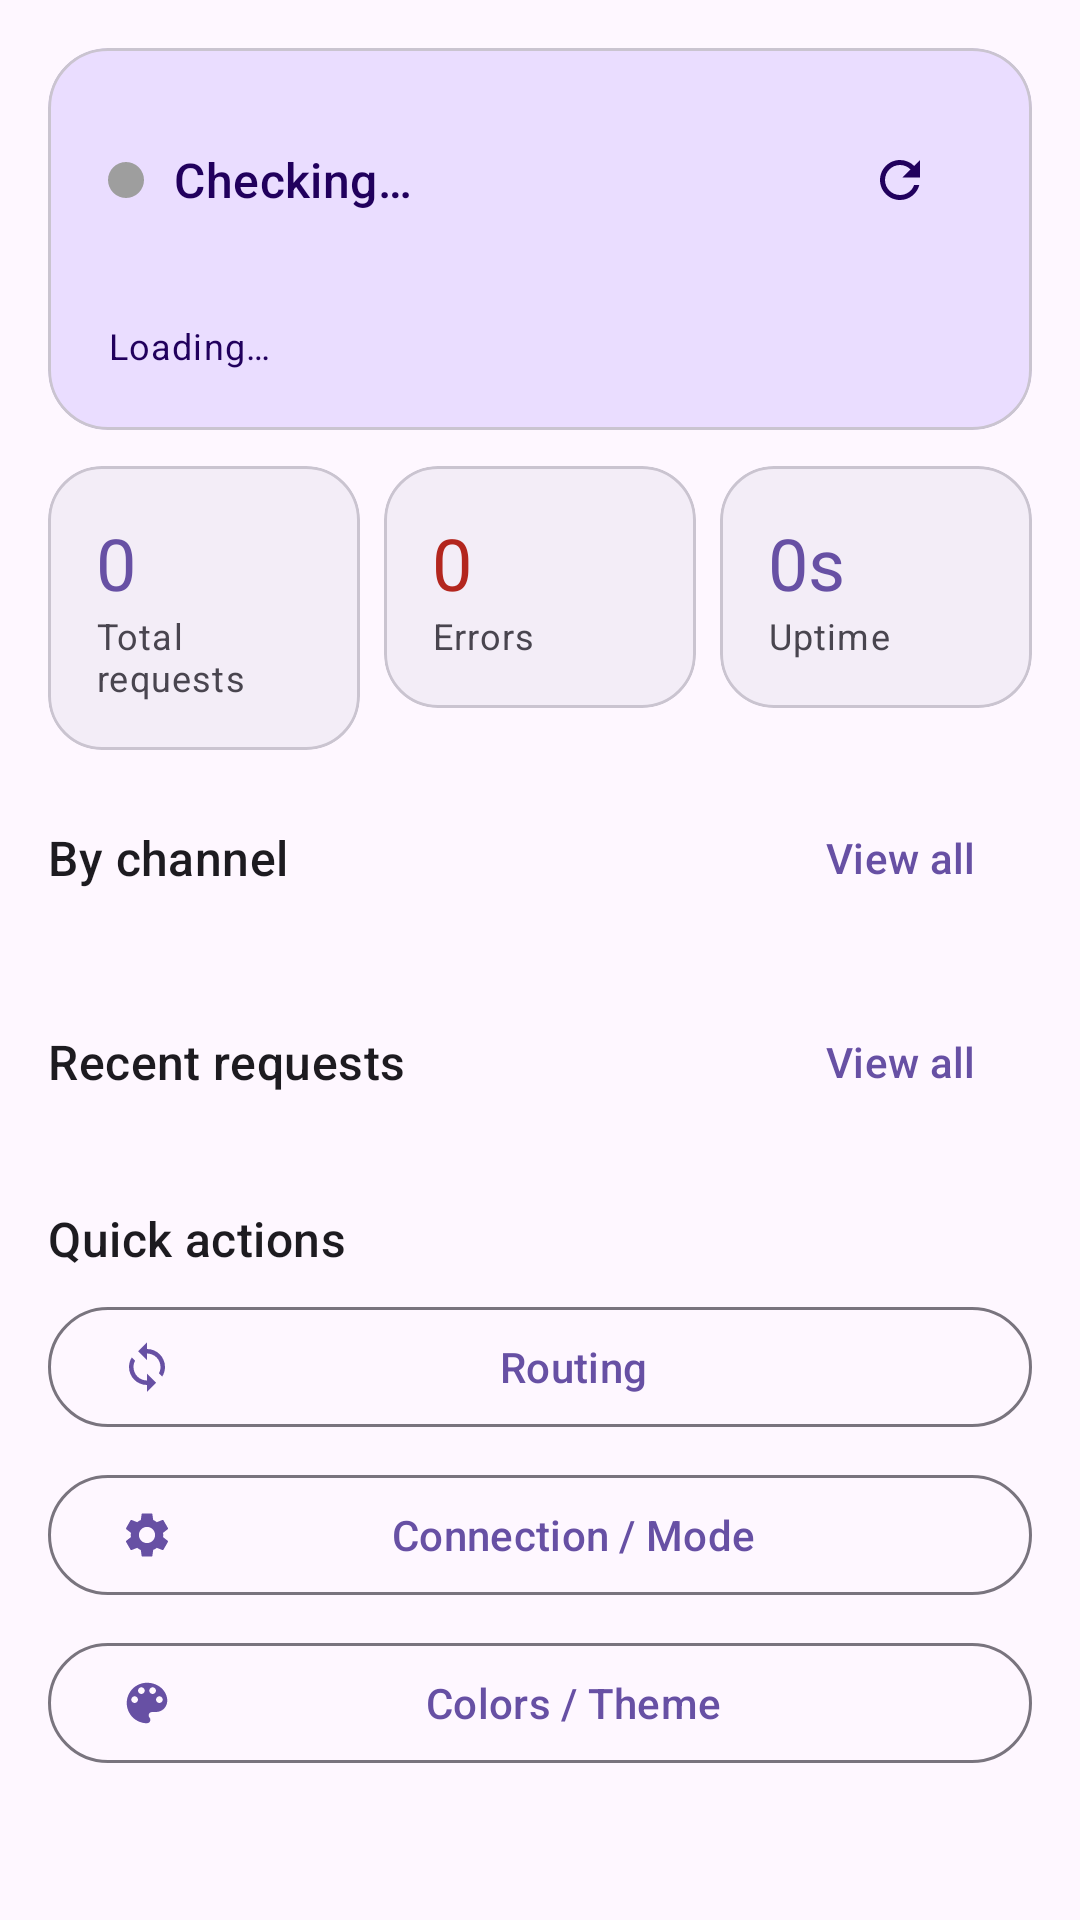

Point at icon controls on the screen. Image size 1080px×1920px, points as (x,y).
Refresh: (900,180)
